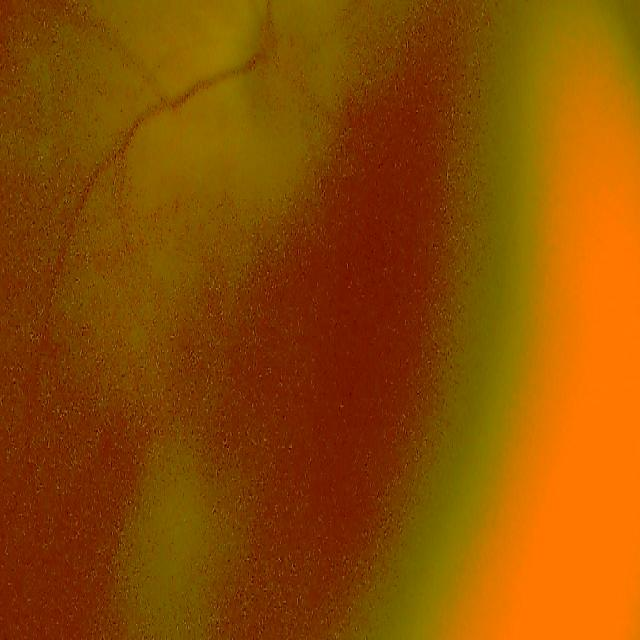optic-nerve: (228, 0, 340, 171)
